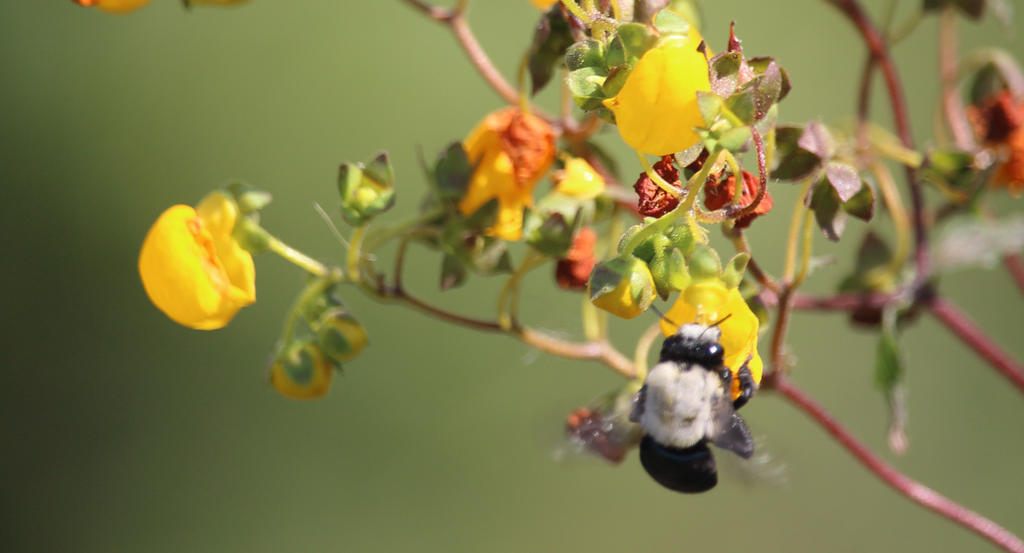centris: (548, 304, 792, 494)
